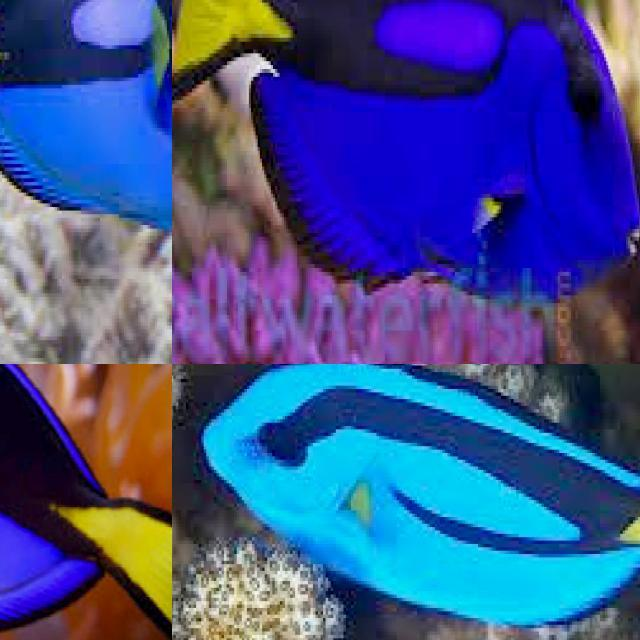BlueTang: (172, 0, 640, 321), (185, 364, 640, 640), (0, 364, 172, 640), (0, 0, 172, 248)
